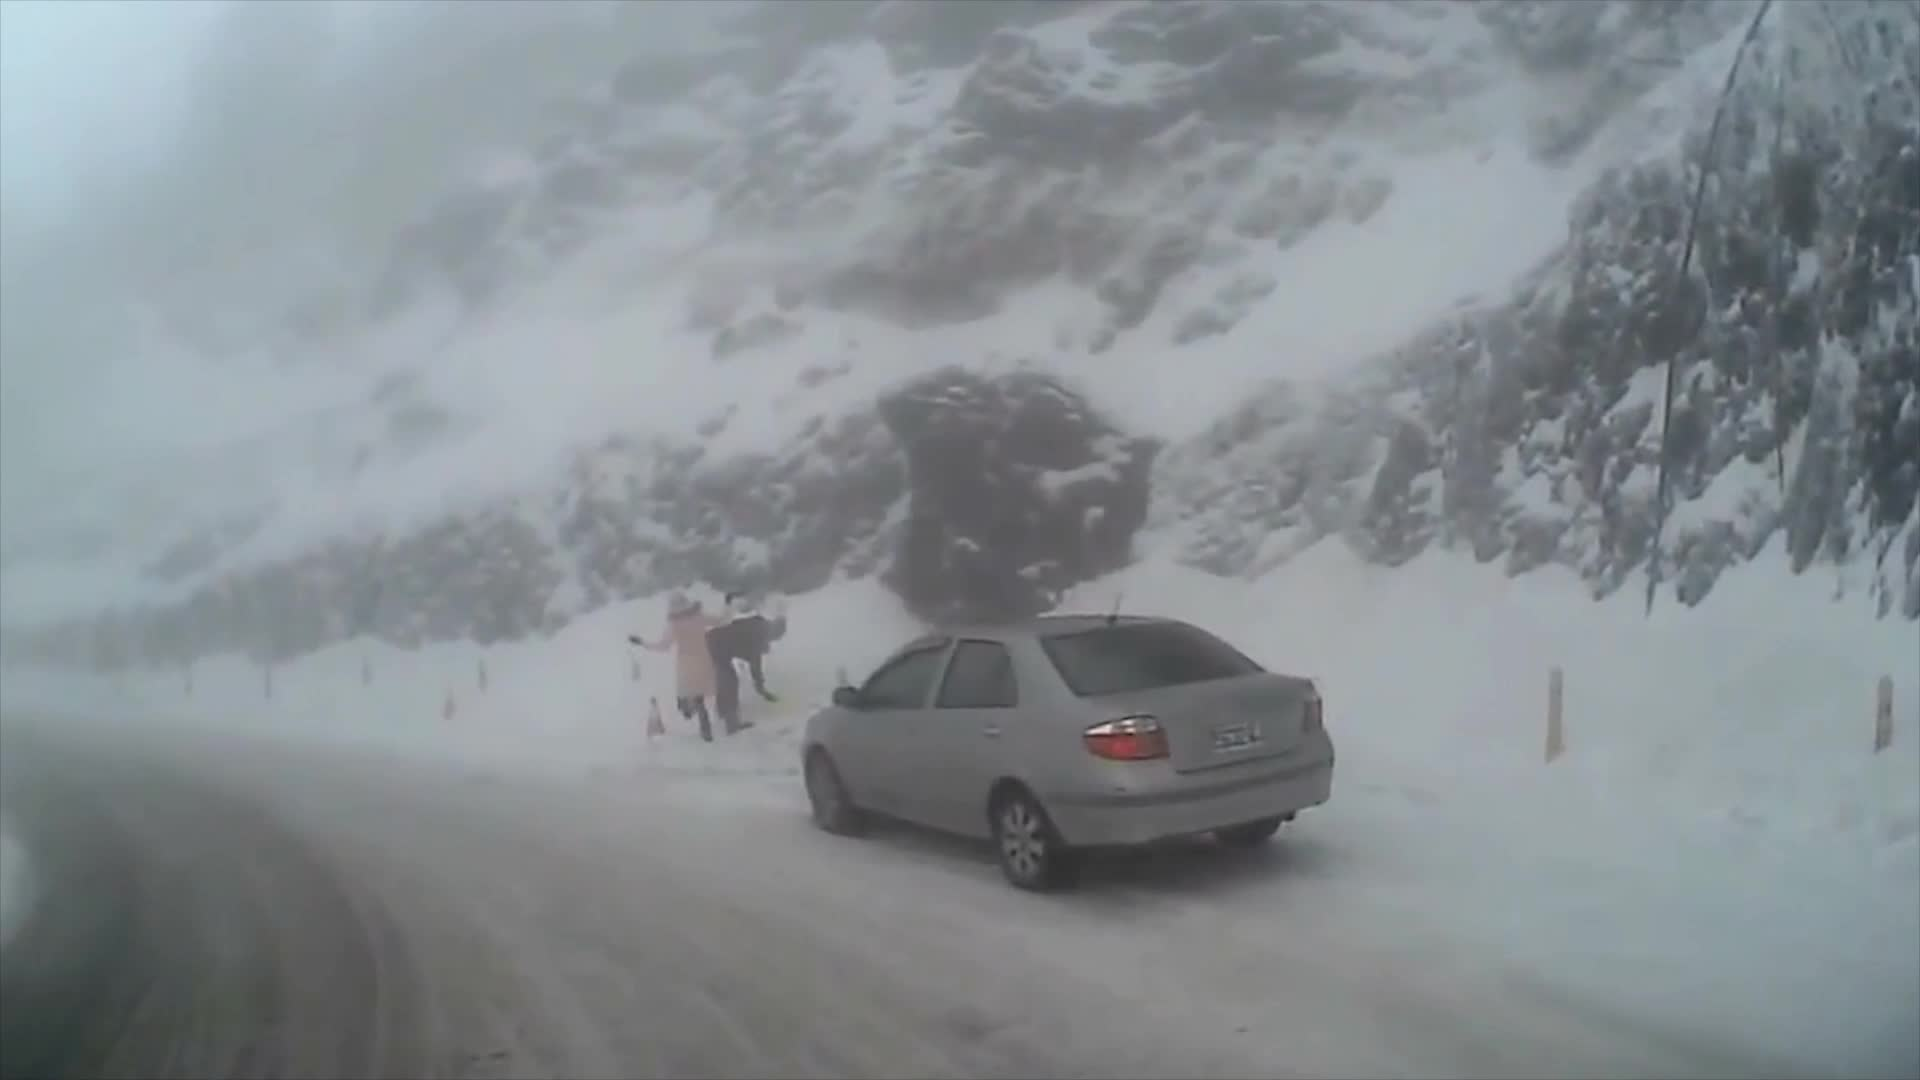pedestrian: (628, 584, 732, 748)
vehicle: (799, 611, 1337, 895)
